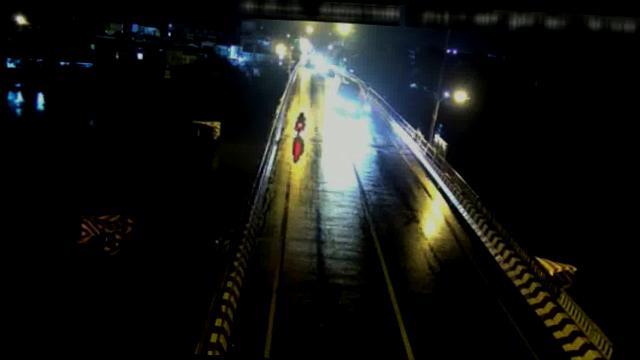Bike: (292, 111, 306, 137)
Truck: (326, 74, 368, 118)
